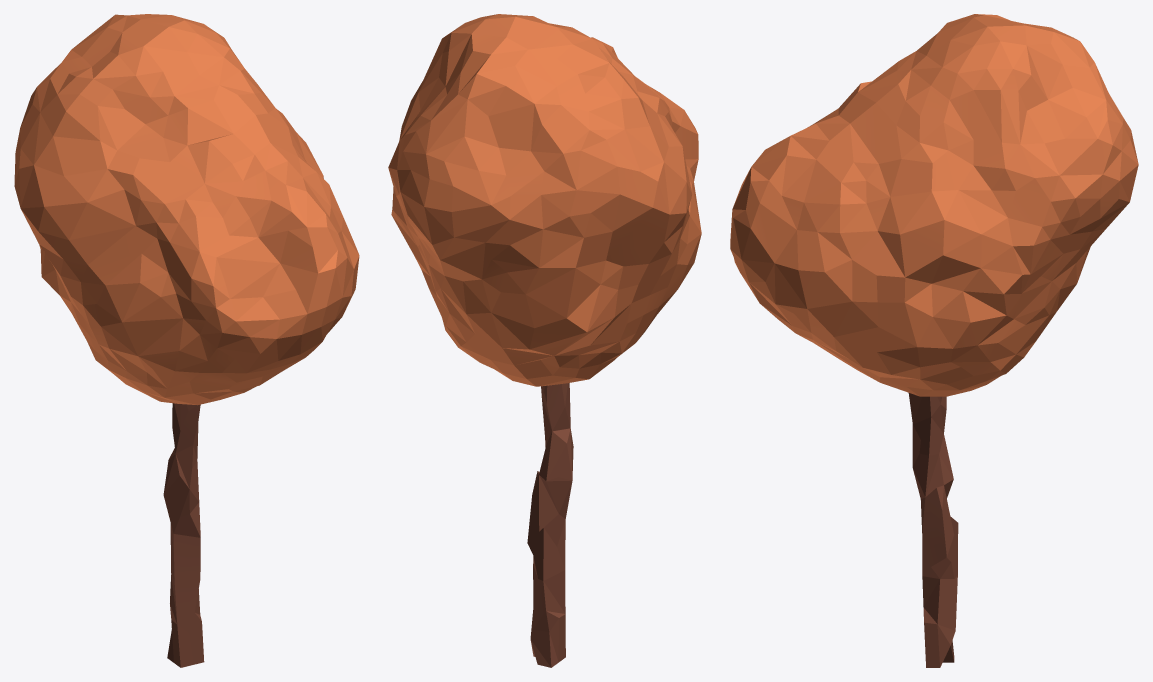
The model's file is TreeRed01.fbx.
The picture shows the model from 3 angles, left to right: view 1: azimuth 30°, elevation 25°; view 2: azimuth 150°, elevation 25°; view 3: azimuth 270°, elevation 25°; orthographic projection. The views are drawn at different scales.
Visible parts, largest first — view 1: TreeRed01; view 2: TreeRed01; view 3: TreeRed01.
Part boxes in pixels (<box>): TreeRed01: <box>14,14,359,667</box>; TreeRed01: <box>388,14,701,667</box>; TreeRed01: <box>730,14,1138,667</box>.
Size of the model in its own units: 1265 by 2775 by 1609.
